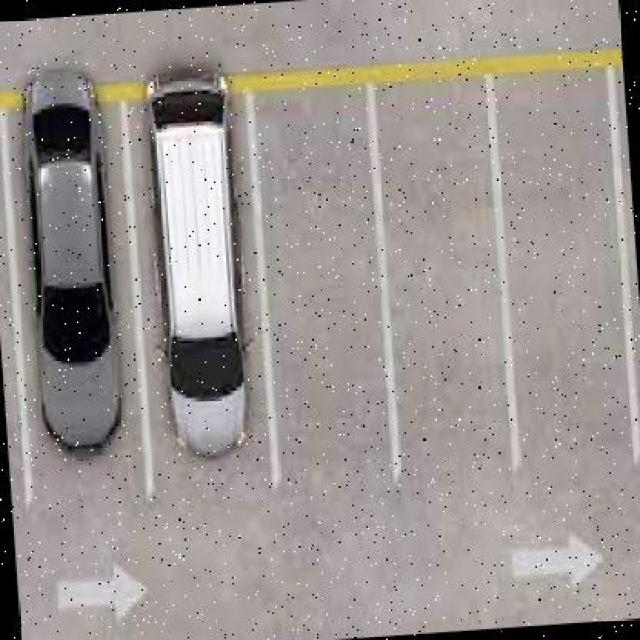Car: (141, 49, 263, 464), (18, 66, 129, 467)
Empty: (255, 86, 398, 490), (497, 69, 634, 478), (377, 83, 517, 481)
